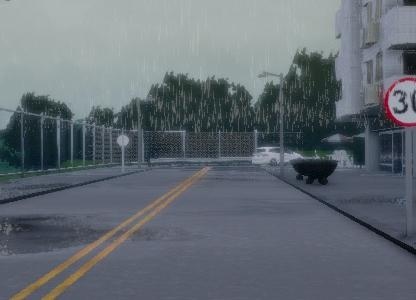Speed_30: (382, 77, 416, 127)
